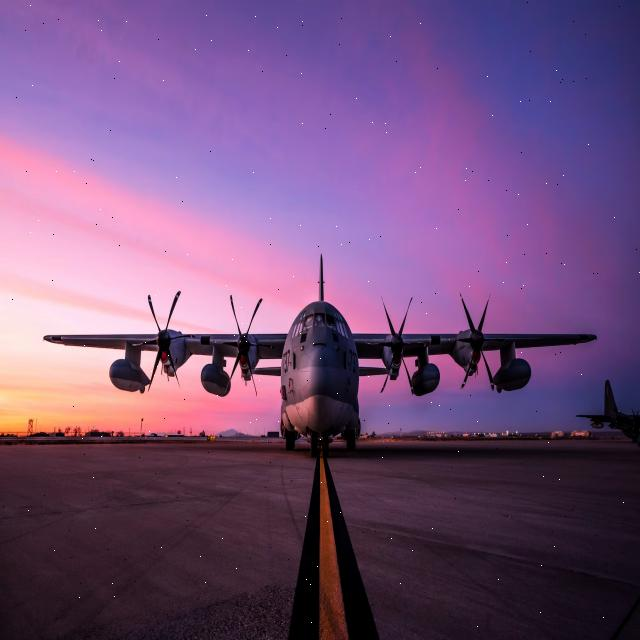C130: (26, 241, 640, 513)
